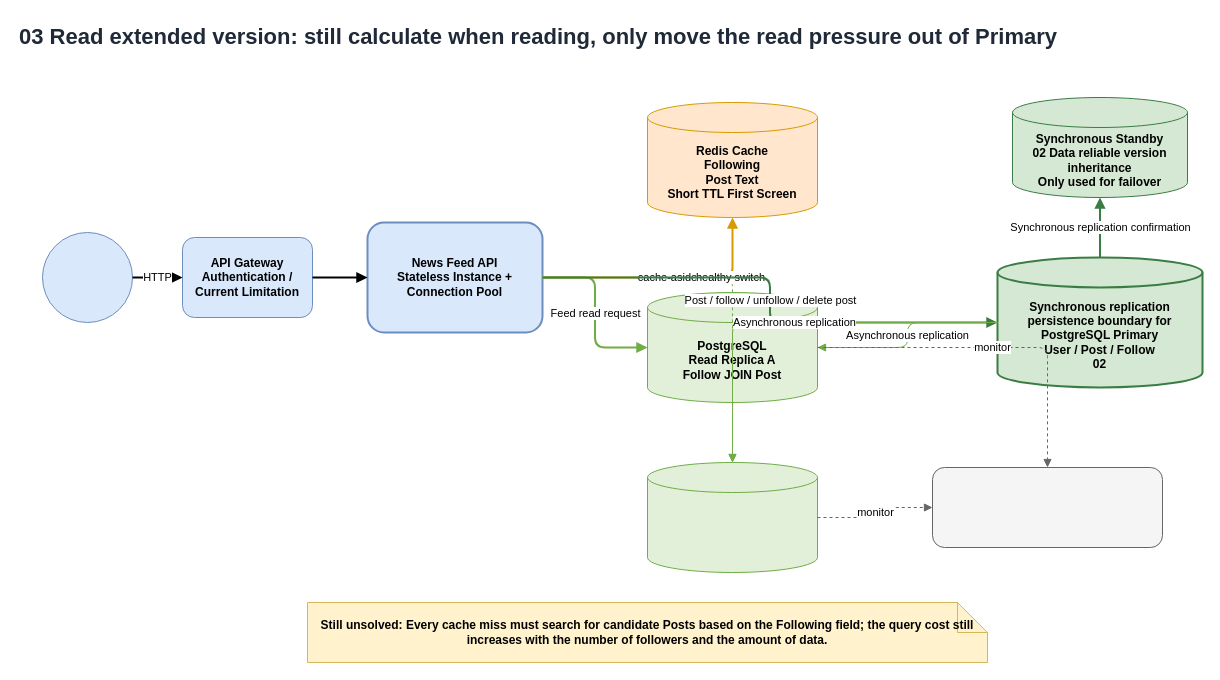
Some shapes in this 1220 by 680 pixel diagram are drawn without their labels. The centre of each missing label's shape, as x and y in pixels:
"Client" goes at (87,277).
"PostgreSQL Read Replica B Follow JOIN Post" goes at (732,517).
"Replica Lag Metrics If the budget exceeds, change the replica or use cache" goes at (1047,507).
